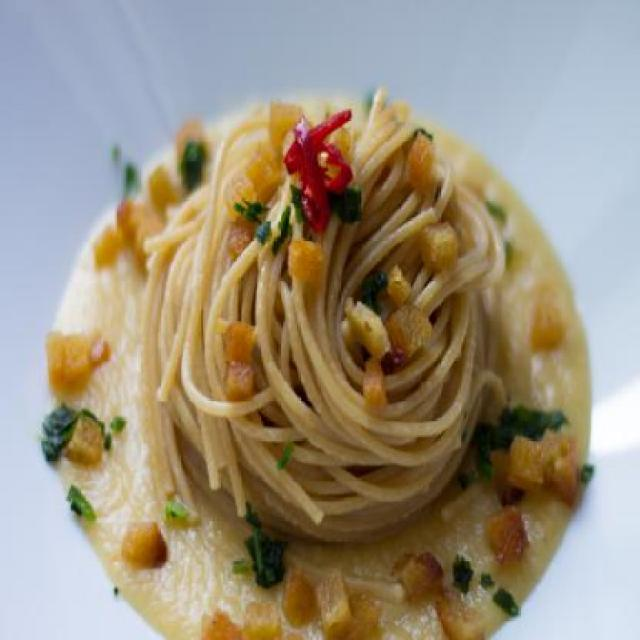Oil pasta: (96, 86, 582, 592)
